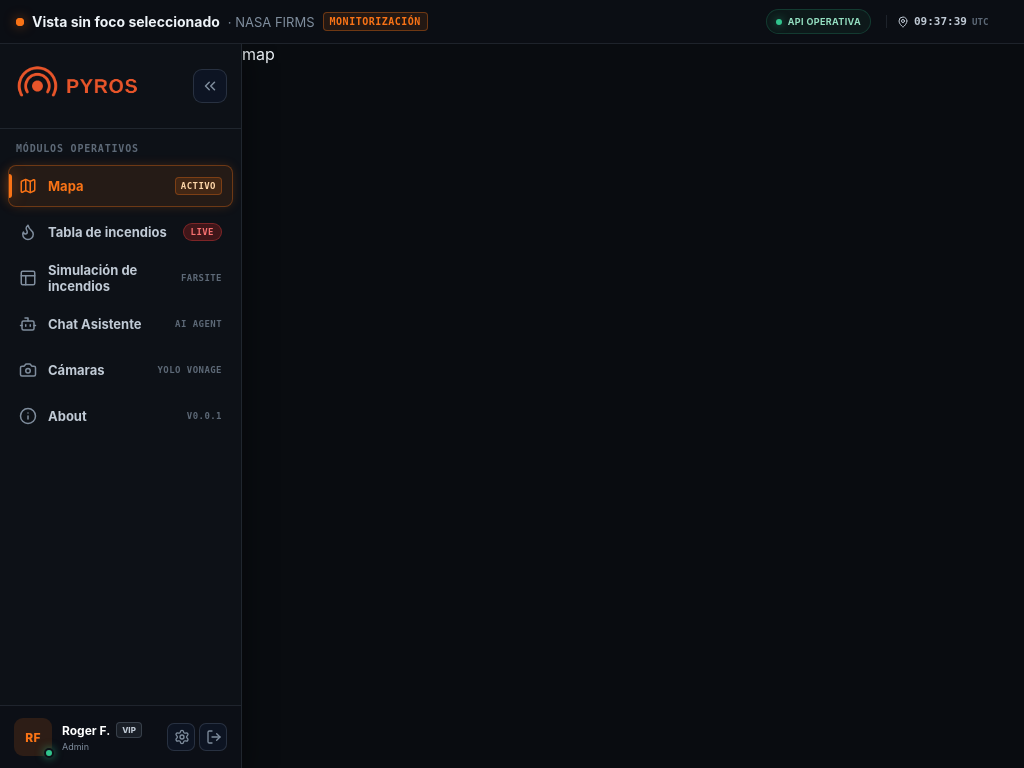
Test: AppShell tactical layout › opens configuration as a closable card over the current workspace
Step 1. Click the button named "Abrir configuración" → click(181, 737), box [167,723,195,751]
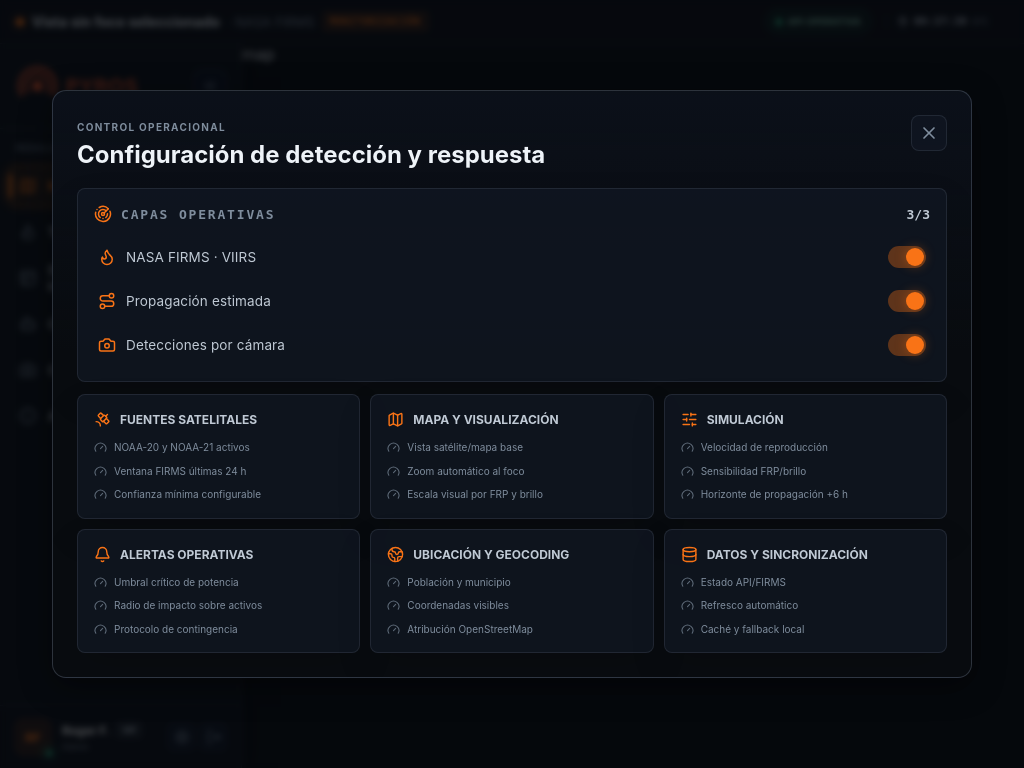
Result: the dialog named "Configuración operativa" is shown
Result: the text "Capas operativas" is shown at [94,205,275,223]
Result: the text "NASA FIRMS · VIIRS" is shown at [98,248,256,266]
Step 2. Click the button named "Cerrar configuración" → click(929, 133), box [911,115,947,151]
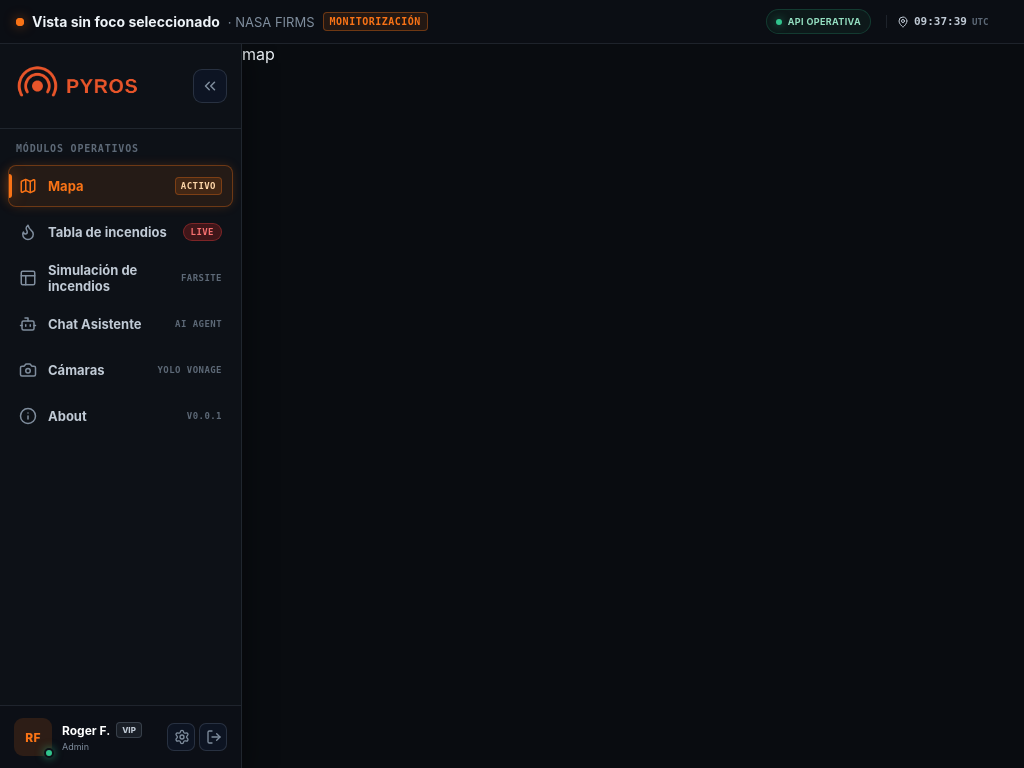
Step 3. Click the button named "Abrir configuración" → click(181, 737), box [167,723,195,751]
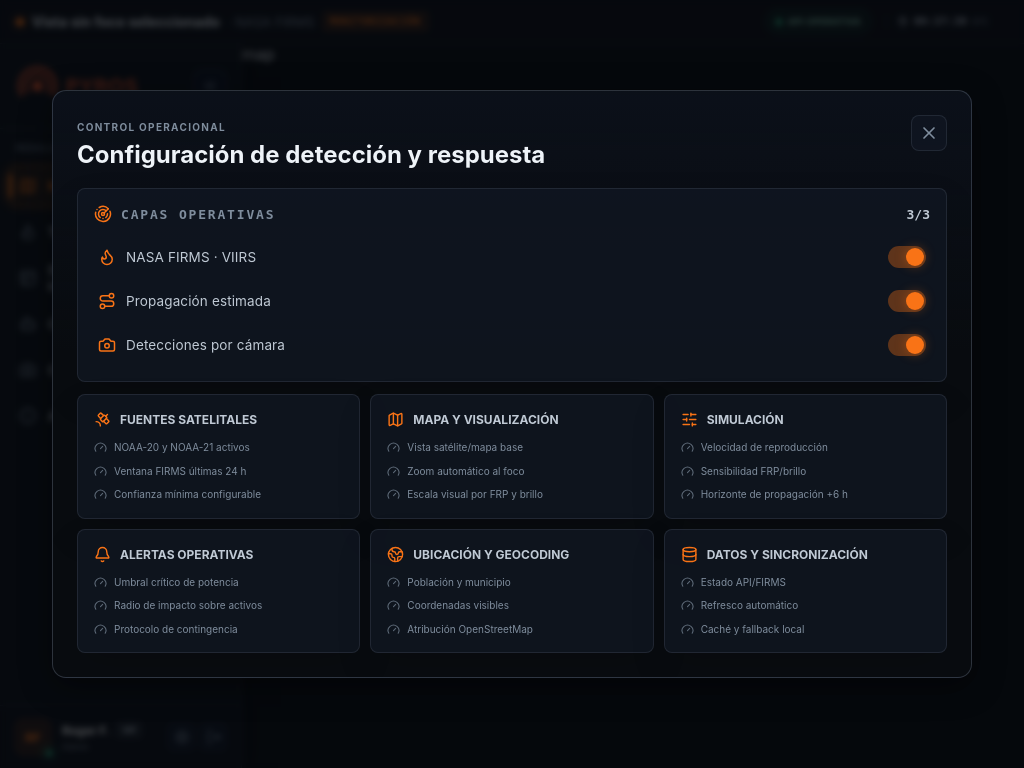
Result: the dialog named "Configuración operativa" is shown
